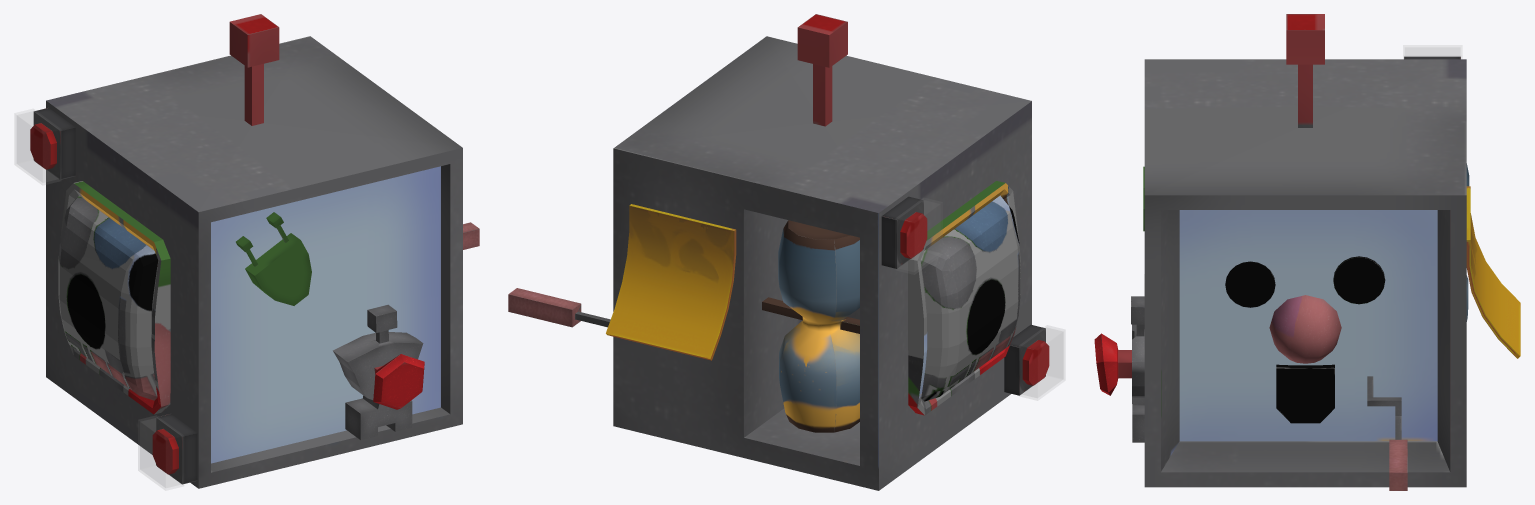
The model's file is MODEL_Bomb3v2.fbx.
3 views of the same model, side by side, from view 1: azimuth 30°, elevation 25°; view 2: azimuth 150°, elevation 25°; view 3: azimuth 270°, elevation 25° (orthographic). The views are drawn at different scales.
Parts seen in each view (by area): view 1: Case, MazeScreen, Zorp, Glorp, GlassCase, GlassCase1, Button, Button1; view 2: Case, MazeScreen, Hourglass, Sticky_Note, GlassCase, GlassCase1, Button, Button1, FlorpCrank; view 3: Case, FlorpEyesNose, Sticky_Note, Zorp, FlorpSmile, FlorpCrank, GlassCase.
Part boxes in pixels (x1,y1,x2,y2): Case: (46,14,462,488); MazeScreen: (58,181,170,414); Zorp: (333,304,424,440); Glorp: (236,212,311,305); GlassCase: (15,109,60,184); GlassCase1: (138,416,183,489); Button: (30,107,75,179); Button1: (152,414,197,484); Case: (613,14,1031,490); MazeScreen: (908,181,1020,415); Hourglass: (762,220,859,432); Sticky_Note: (606,204,736,360); GlassCase: (896,198,942,274); GlassCase1: (1019,325,1064,400); Button: (881,196,927,268); Button1: (1004,324,1049,395); FlorpCrank: (508,288,610,327); Case: (1144,14,1466,487); FlorpEyesNose: (1225,256,1385,363); Sticky_Note: (1466,186,1520,358); Zorp: (1094,296,1144,442); FlorpSmile: (1276,364,1334,423); FlorpCrank: (1367,376,1407,490); GlassCase: (1403,45,1461,58).
Bounding box in the file's own units: 3.27 × 2.73 × 2.66.
Materials: 3 (2 with a texture image).
